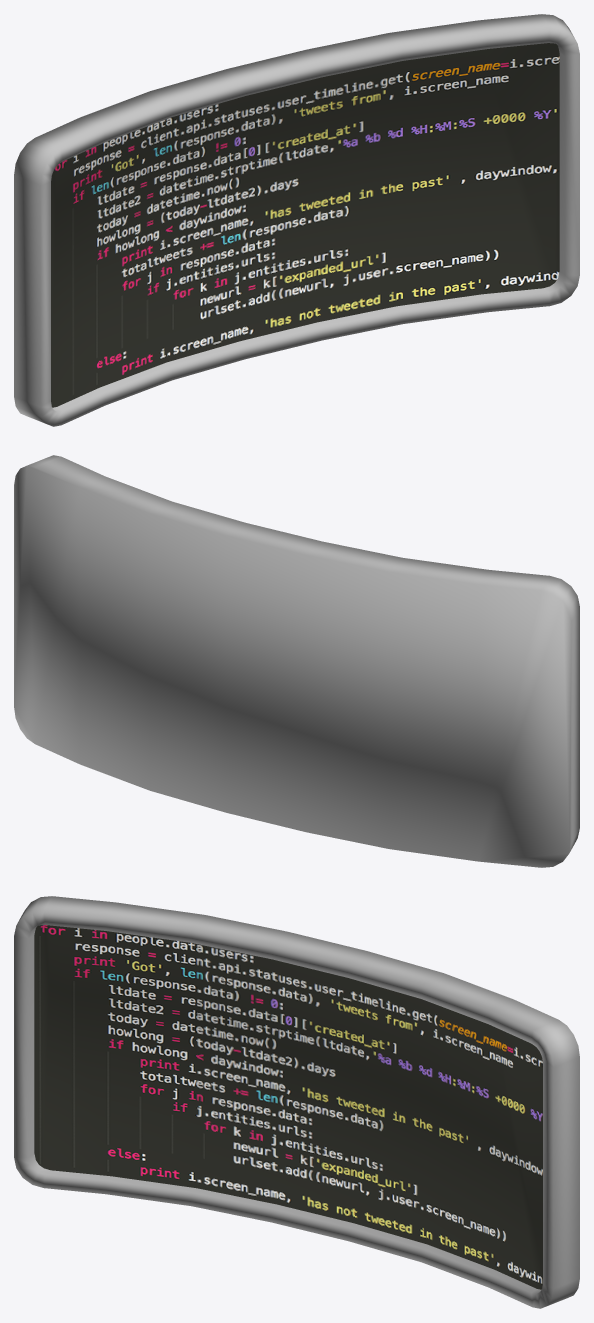
Rendered from aiscreen23.glb.
3 views of the same model, one above another, from view 1: azimuth 30°, elevation 25°; view 2: azimuth 150°, elevation 25°; view 3: azimuth 330°, elevation 25° (orthographic).
Parts seen in each view (by area): view 1: Plane.005; view 2: Plane.005; view 3: Plane.005.
Boxes of the visible parts, x1,y1,x2,y2 form: Plane.005: [14, 14, 579, 426]; Plane.005: [14, 455, 579, 867]; Plane.005: [14, 896, 579, 1308].
Size of the model in its own units: 9.31 by 4.42 by 1.28.
2 materials, 1 textured.
